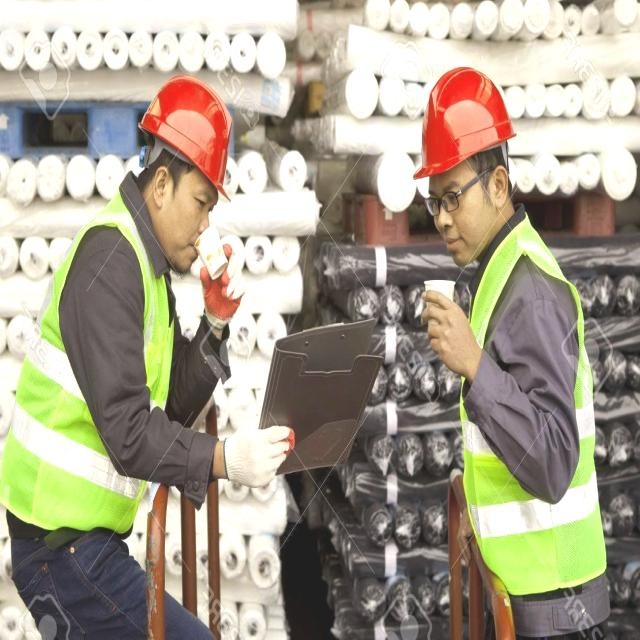face_nomask: (423, 160, 498, 264), (164, 178, 215, 284)
hand_glove: (213, 402, 292, 503), (198, 234, 252, 328)
hand_noglove: (419, 294, 482, 382)
head_helmet: (412, 63, 520, 180), (135, 76, 230, 201)
person: (8, 73, 245, 640), (415, 65, 606, 640)
vest: (9, 210, 182, 517), (460, 238, 597, 595)
